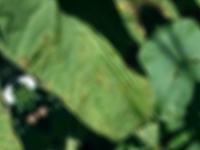Tomato Septoria leaf spot: (0, 0, 174, 150)
